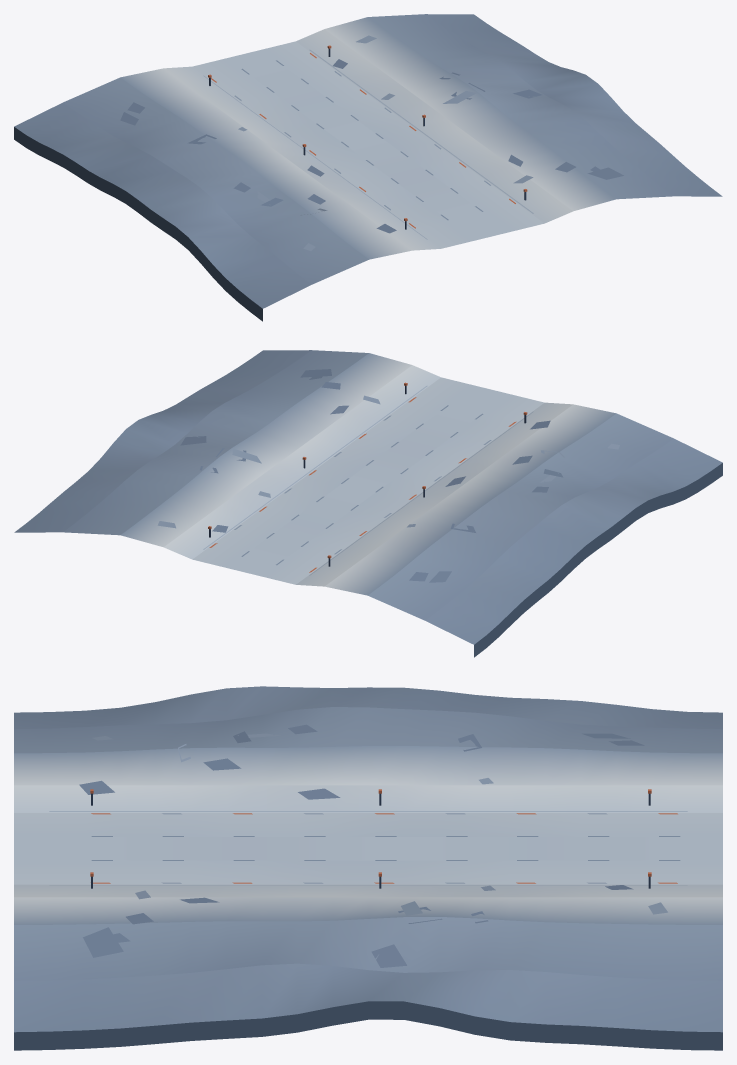
File: 01-straight.glb
3 renders of one model, top to bottom at view 1: azimuth 30°, elevation 25°; view 2: azimuth 150°, elevation 25°; view 3: azimuth 270°, elevation 25°, orthographic. The views are drawn at different scales.
Visible parts, largest first — view 1: straight; view 2: straight; view 3: straight.
Part boxes in pixels (bbox=[...]): straight: bbox=[14, 14, 722, 321]; straight: bbox=[14, 350, 722, 657]; straight: bbox=[14, 686, 722, 1050].
Size of the model in its own units: 32 by 2.79 by 30.
